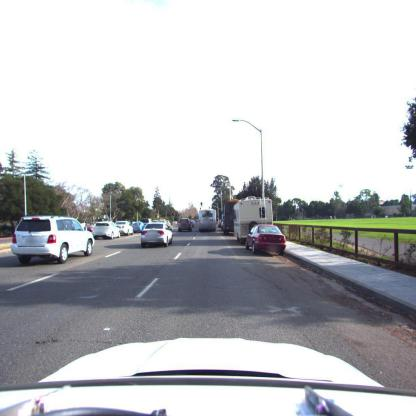car: (0, 336, 416, 416), (12, 216, 95, 266), (244, 224, 288, 256), (140, 223, 173, 248), (92, 222, 119, 240), (116, 222, 133, 238), (178, 219, 192, 231), (131, 221, 143, 232)
truck: (230, 199, 274, 243), (197, 210, 219, 232)
